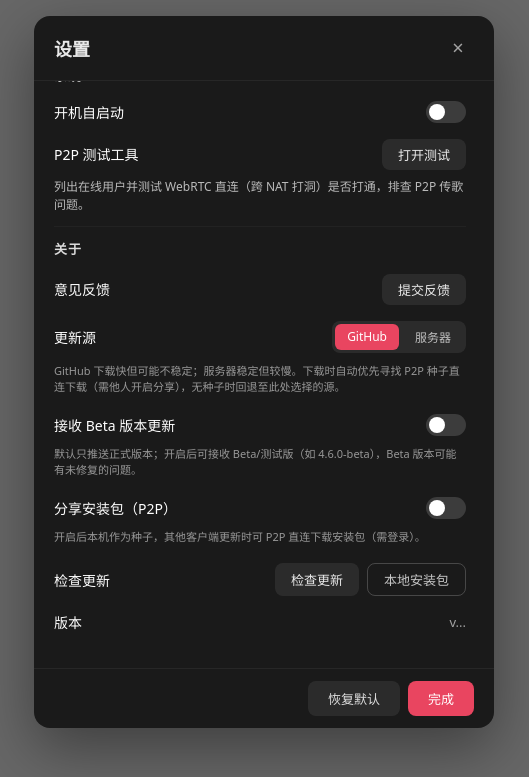
Test: SettingsPanel.vue › 开启分享安装包：已登录时应注册种子并持久化开关
(page scrolled)
Click the checkbox in the row of "分享安装包（P2P）". click: point(446, 508)
box: x1=426 y1=497 x2=466 y2=519
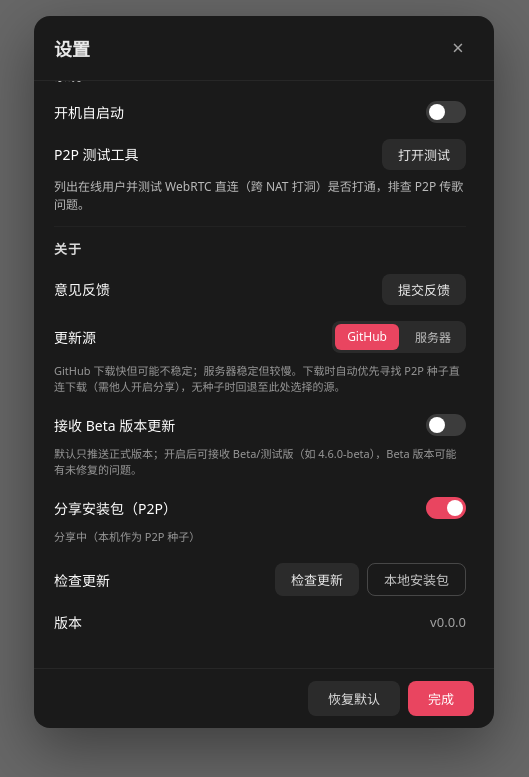
Now the text "分享中（本机作为 P2P 种子）" is shown, box x1=54 y1=529 x2=200 y2=544
